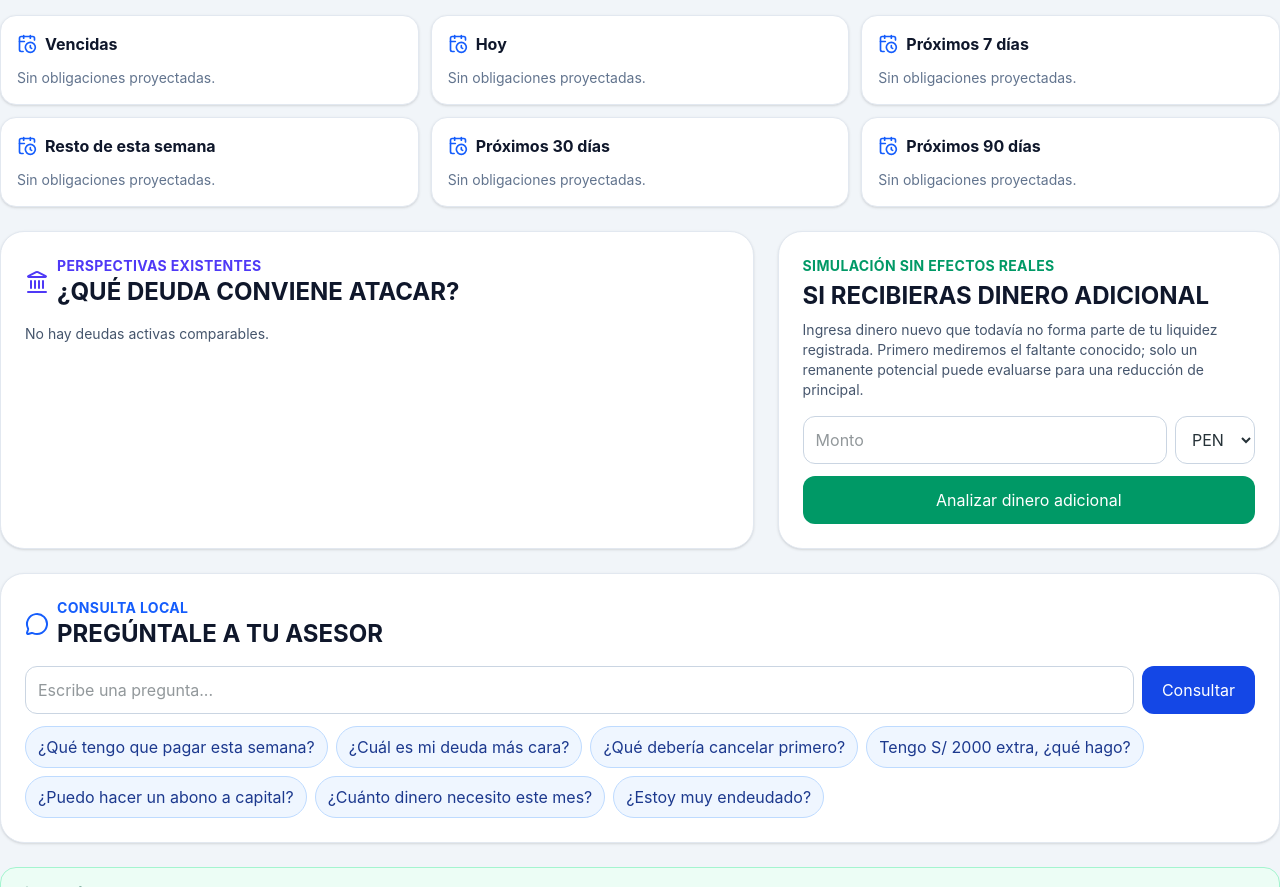
FinancialAdvisorPanel › renders the executive extra-cash result from the shared read-model
(page scrolled)
Type "100" into the field with test id "advisor-extra-amount".
click(985, 440); type("100")  # box [803, 416, 1167, 464]
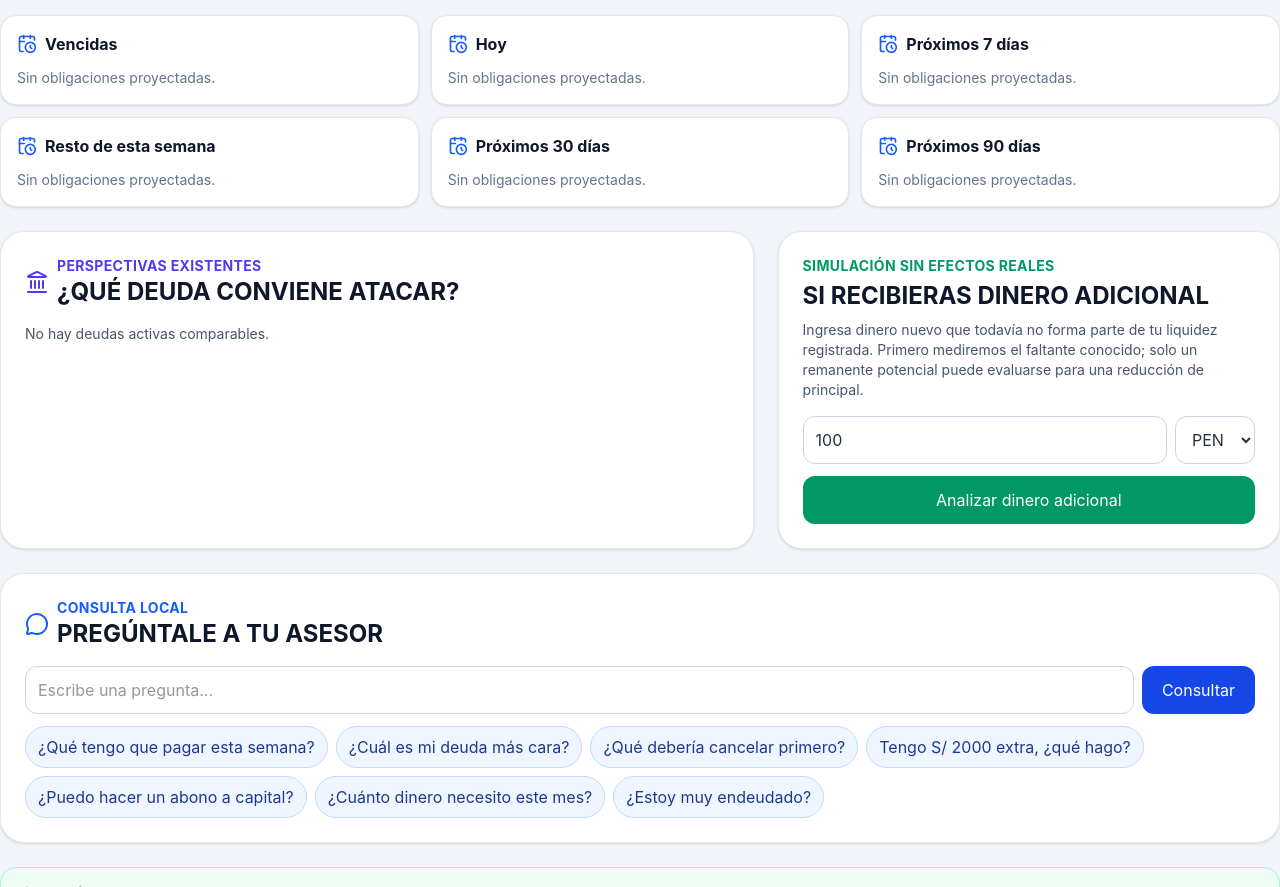
Click the button "Analizar dinero adicional".
click(1029, 500)  # box [803, 476, 1255, 524]
(page scrolled)
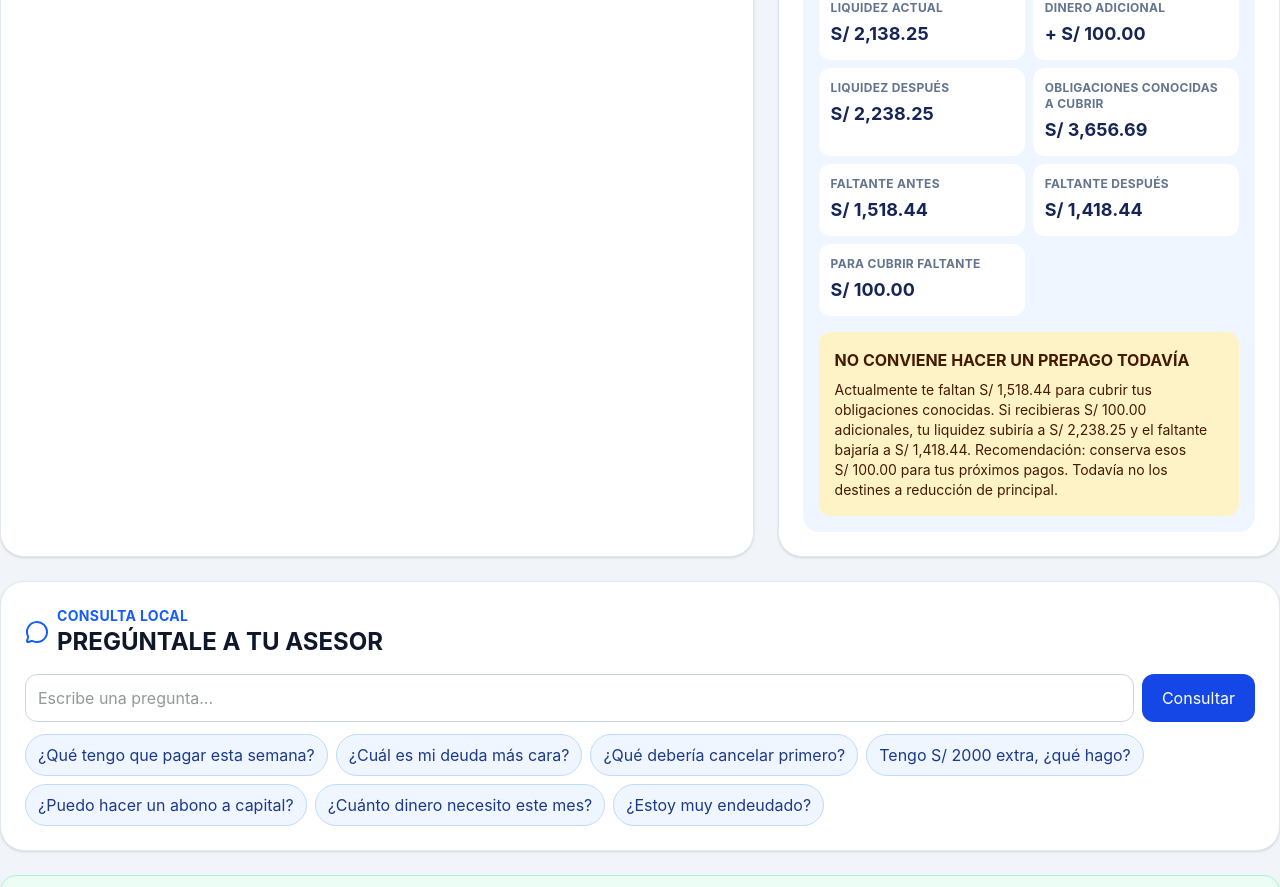
Now the text "Faltante antes" is shown, box [831, 176, 940, 191]
Now the text "Faltante después" is shown, box [1045, 176, 1169, 191]
Now the text "NO CONVIENE HACER UN PREPAGO TODAVÍA" is shown, box [835, 348, 1223, 372]
